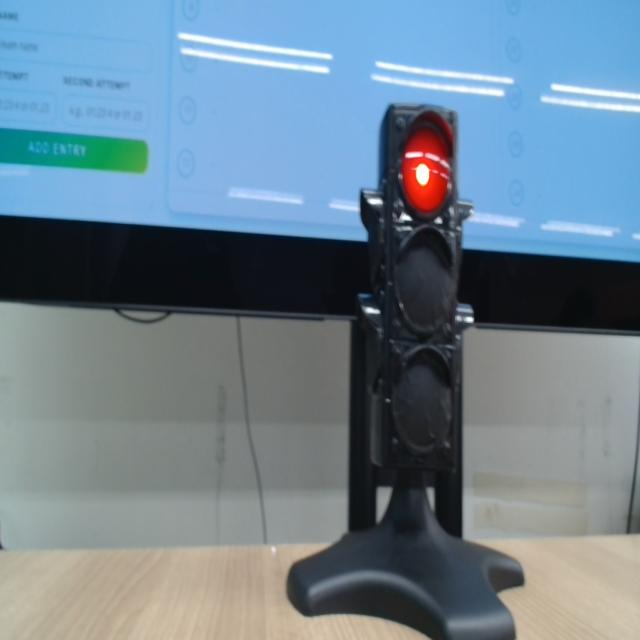red_light: (401, 128, 450, 215)
